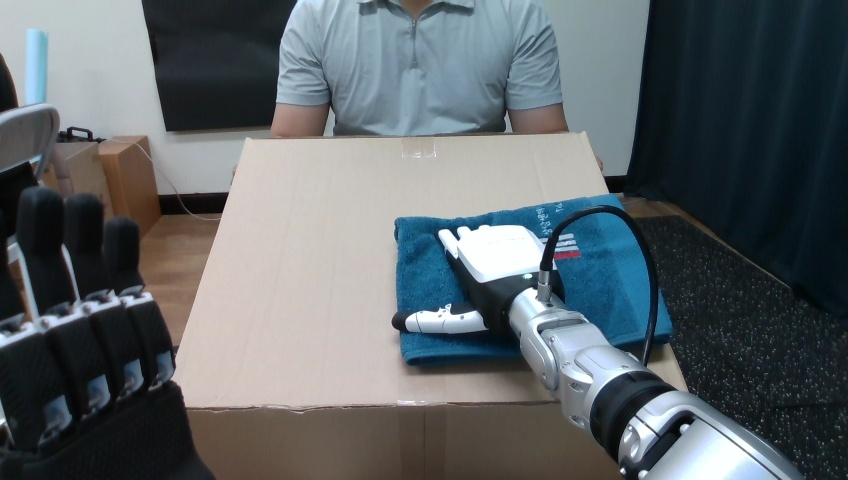left robot hand: (392, 205, 801, 479), (552, 213, 650, 361)
